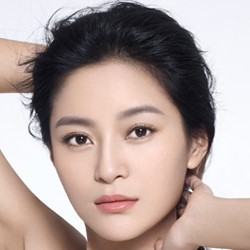unmask: (45, 86, 185, 239)
